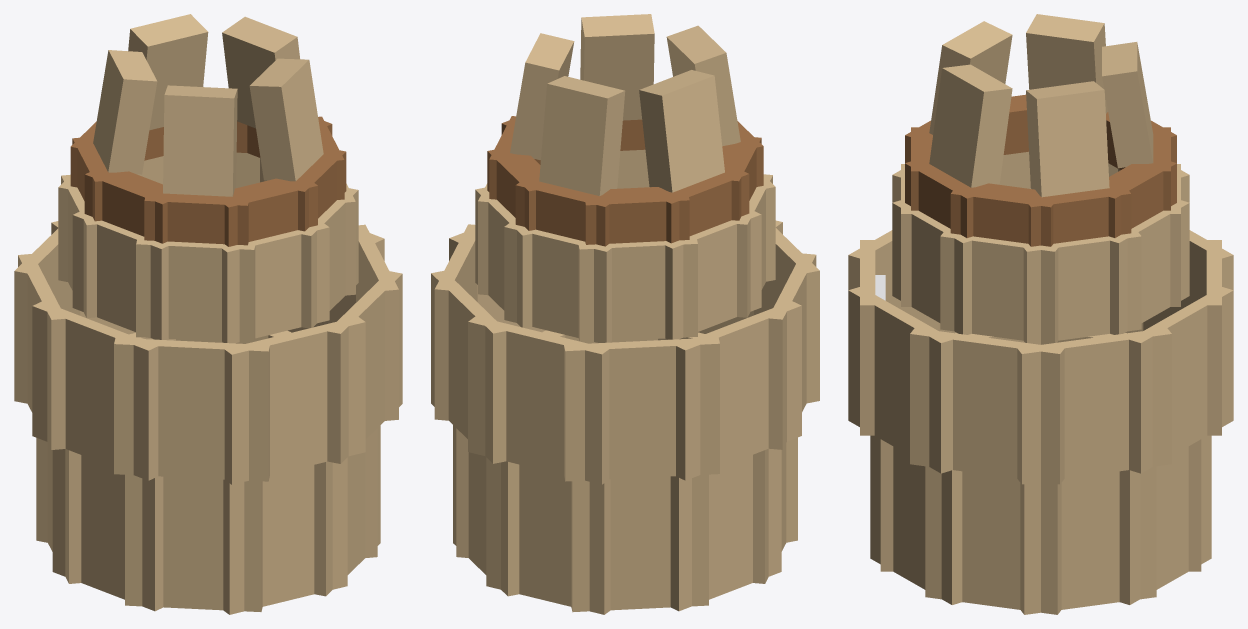
The model's file is sack.glb.
3 views of the same model, side by side, from view 1: azimuth 30°, elevation 25°; view 2: azimuth 150°, elevation 25°; view 3: azimuth 270°, elevation 25° (orthographic).
Parts seen in each view (by area): view 1: sack; view 2: sack; view 3: sack.
Boxes of the visible parts, x1,y1,x2,y2 form: sack: (14,14,402,614); sack: (431,14,819,614); sack: (848,14,1233,614).
Bounding box in the file's own units: 0.75 × 1.04 × 0.75.
